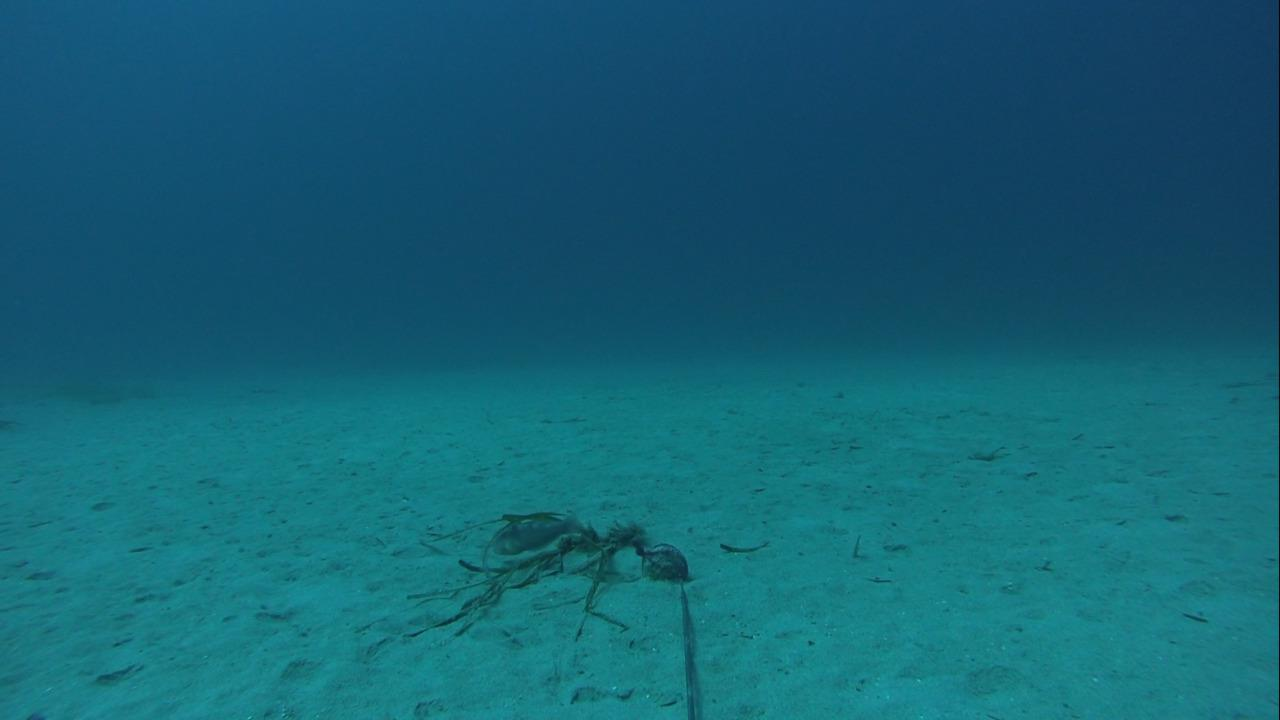raor: (488, 510, 584, 558)
